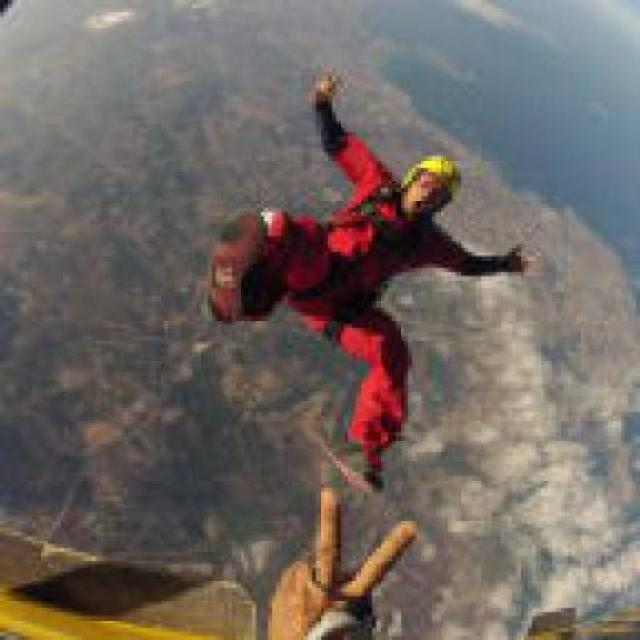fall: (215, 70, 534, 495)
